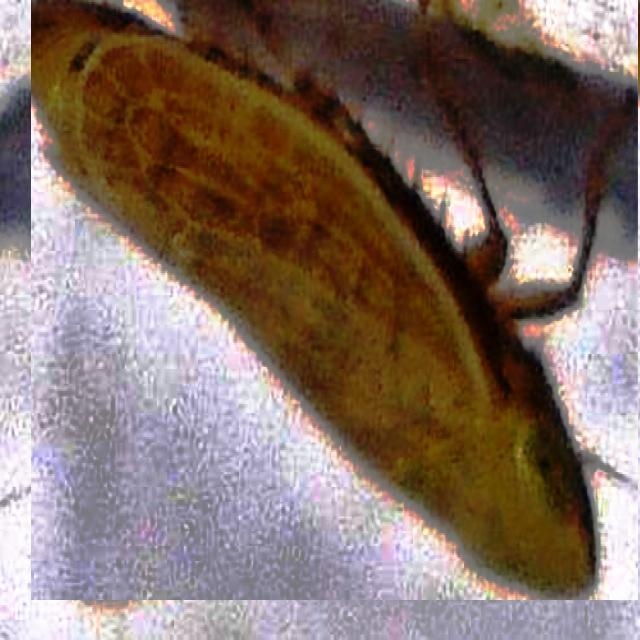green-leafhopper: (32, 0, 637, 600)
